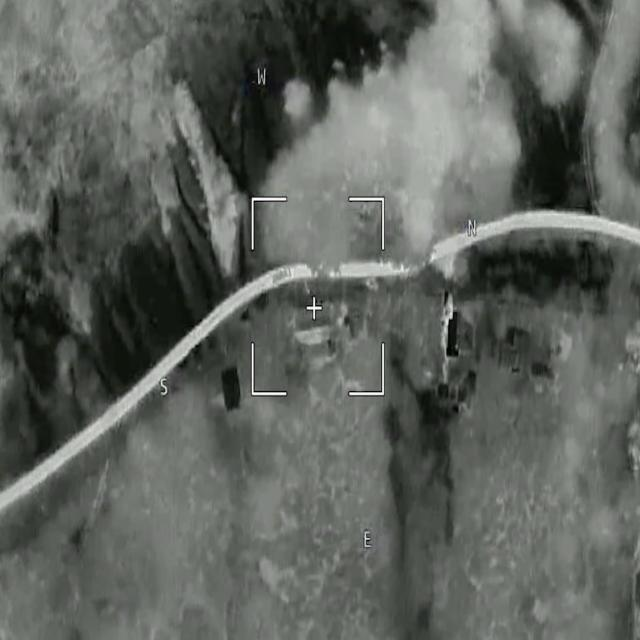vehicle: (219, 366, 244, 410)
